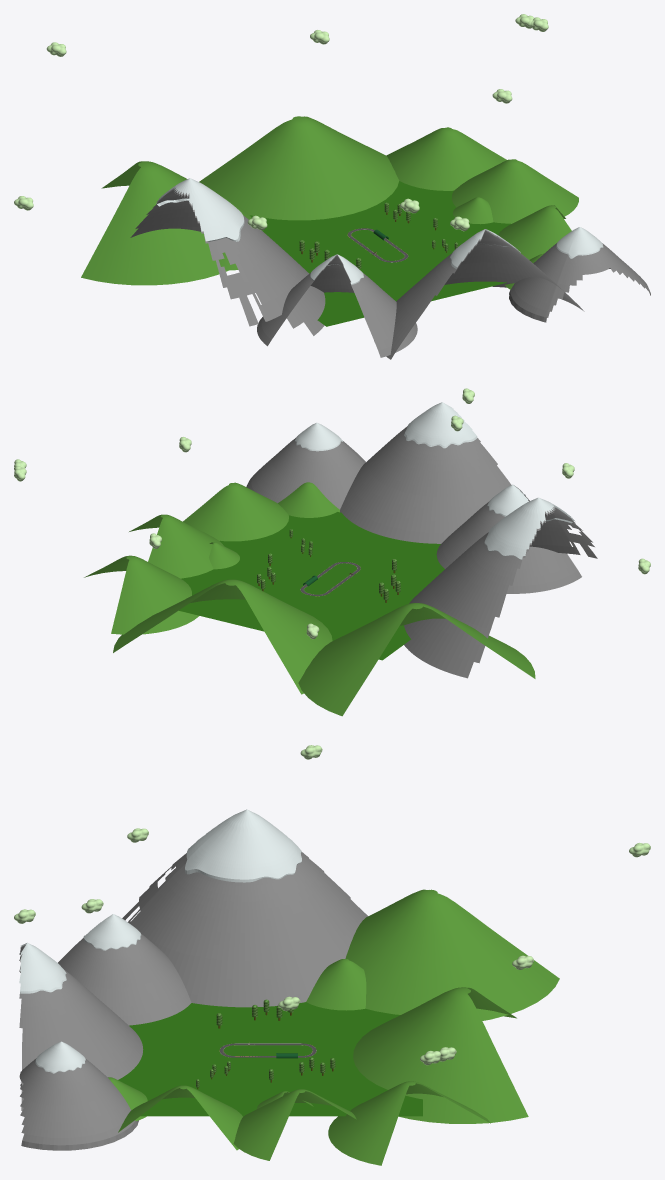
Rendered from oval-track-transformed.glb.
3 renders of one model, top to bottom at view 1: azimuth 30°, elevation 25°; view 2: azimuth 150°, elevation 25°; view 3: azimuth 270°, elevation 25°, orthographic. The views are drawn at different scales.
Visible parts, largest first — view 1: flat_plane, moutain_range; view 2: flat_plane, moutain_range; view 3: flat_plane, moutain_range.
Part boxes in pixels (<box>): flat_plane: <box>14,14,578,326</box>; moutain_range: <box>130,178,650,359</box>; flat_plane: <box>14,388,650,716</box>; moutain_range: <box>246,402,597,678</box>; flat_plane: <box>14,745,650,1165</box>; moutain_range: <box>19,809,367,1150</box>.
Bounding box in the file's own units: 5107 × 1126 × 4391.
Materials: 9 (6 with a texture image).
